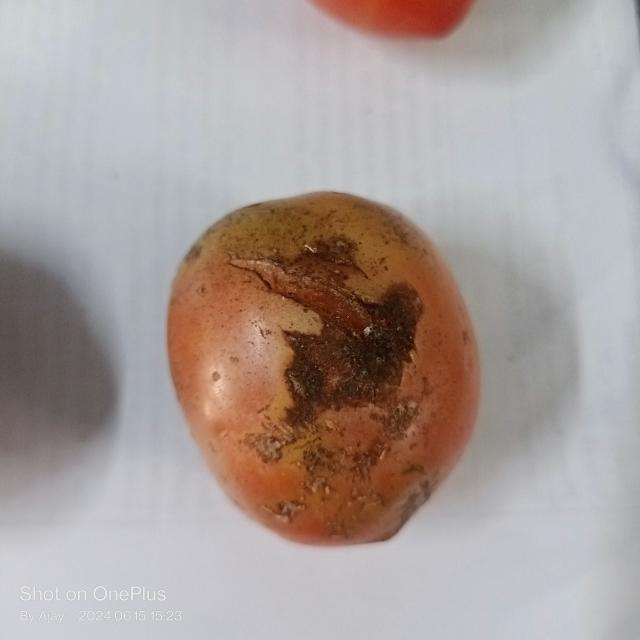tomato_cracking: (225, 234, 429, 465)
